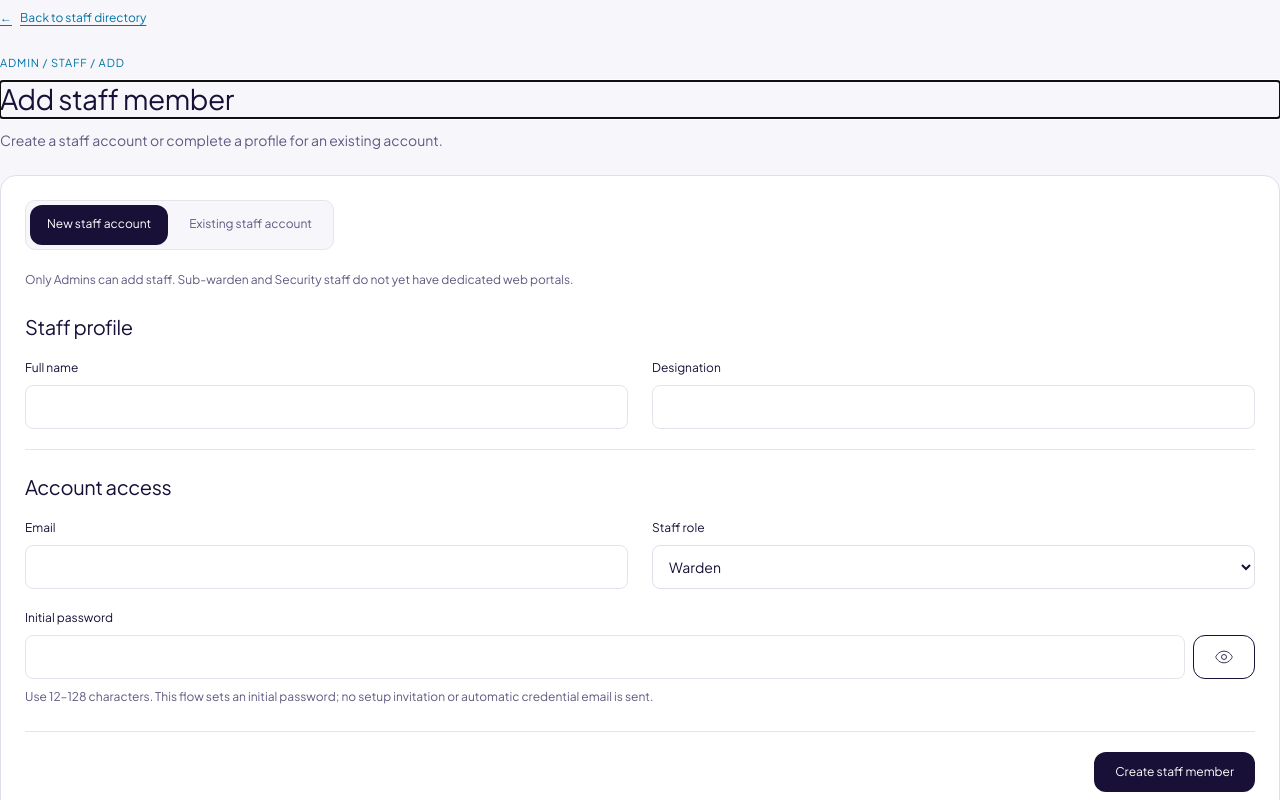
paginates account choices and excludes student accounts
The image size is (1280, 800).
Click the button "Existing staff account" at [251, 225], box [172,205,329,245]
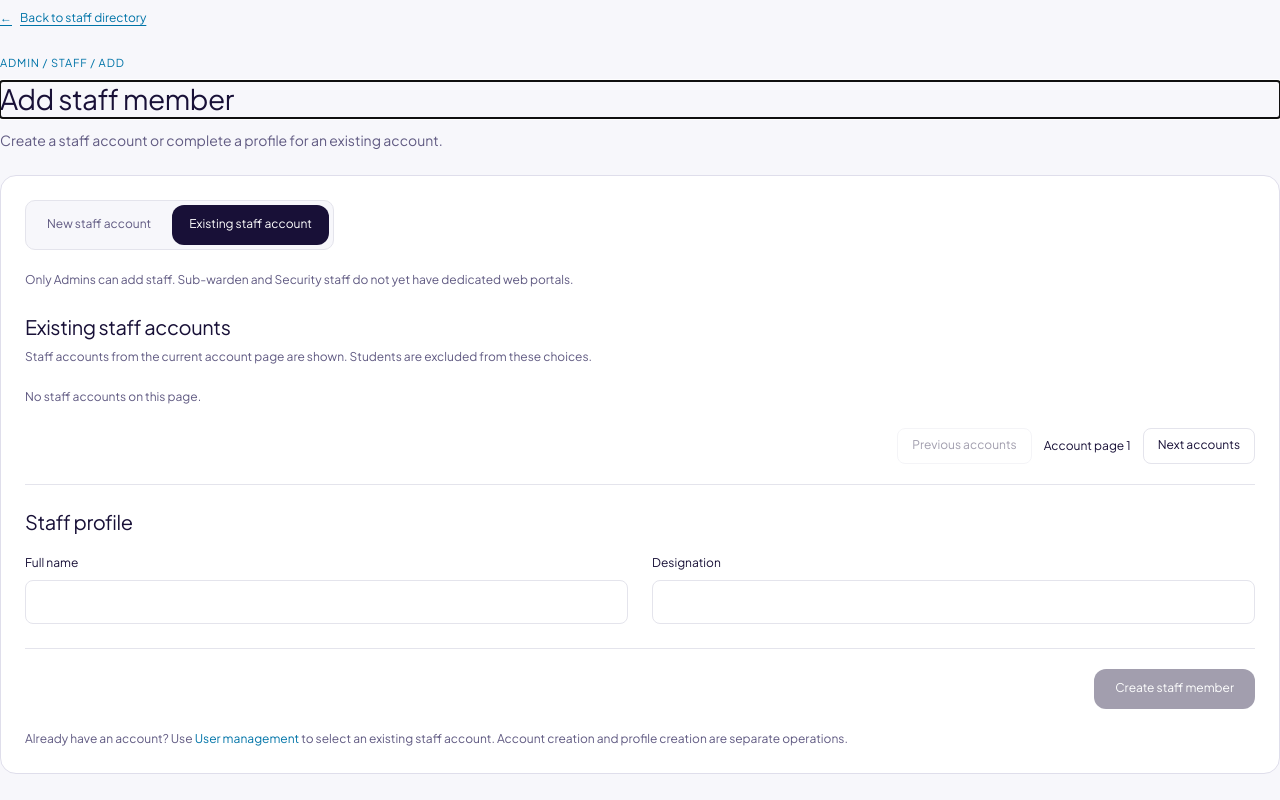
expect the text "No staff accounts on this page." is shown: met, box [25,389,201,404]
Click the button "Next accounts" at [1199, 446], box [1143,428,1255,464]
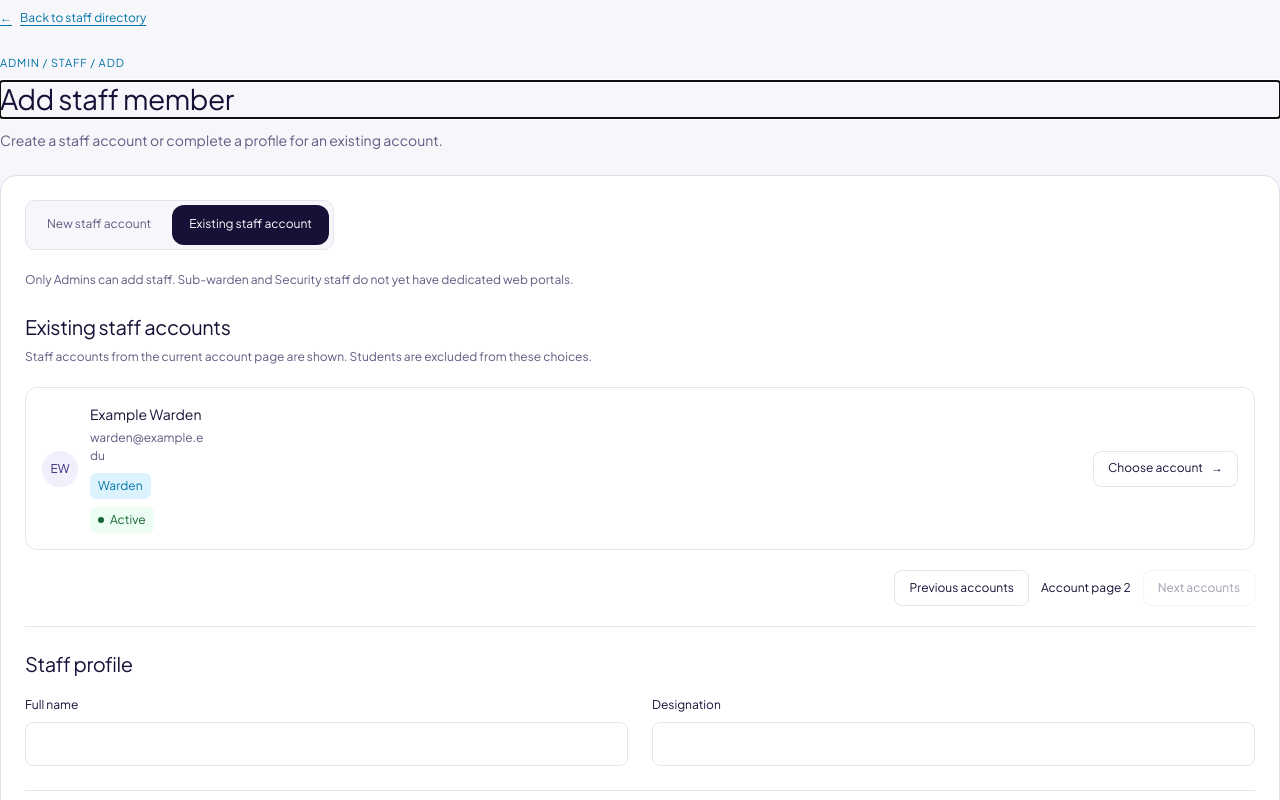
Click the button "Choose account →" at [1166, 469], box [1093,451,1238,487]
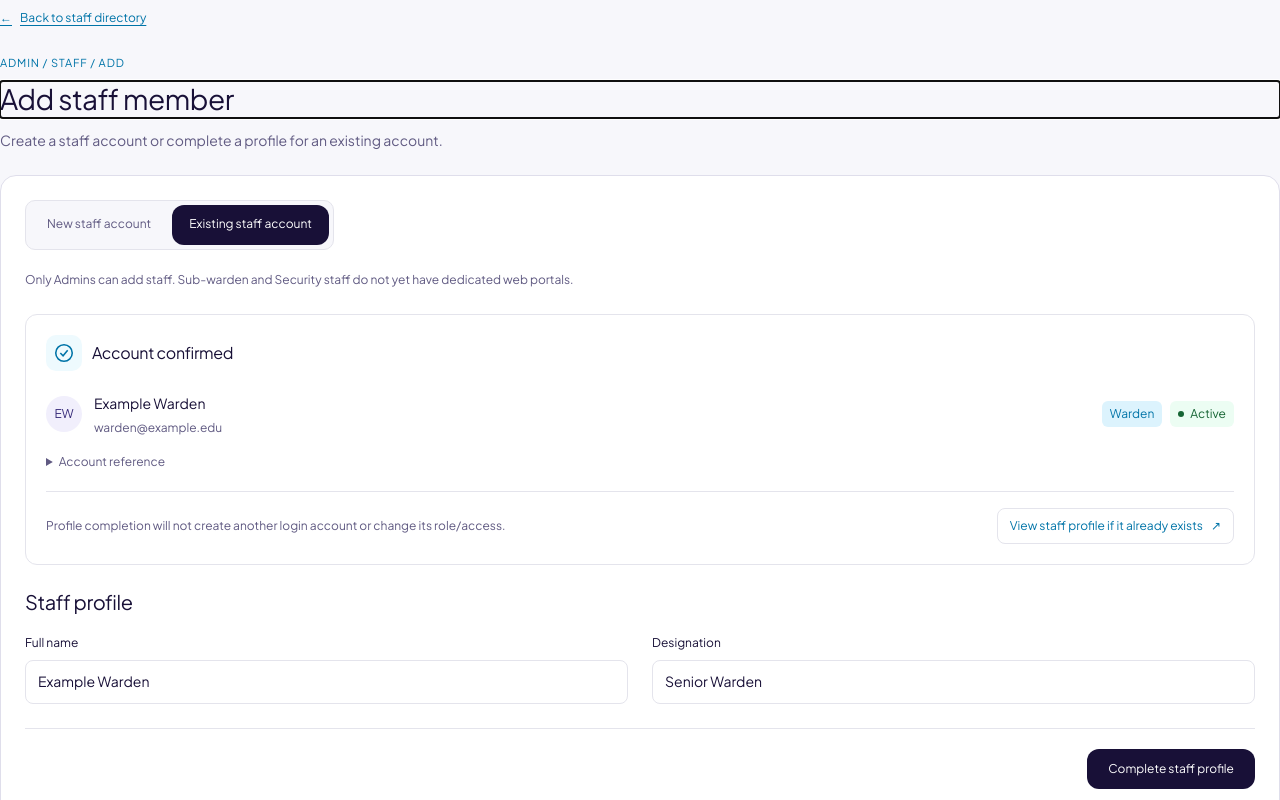
expect the heading "Account confirmed" is shown: met, box [92,343,233,363]
